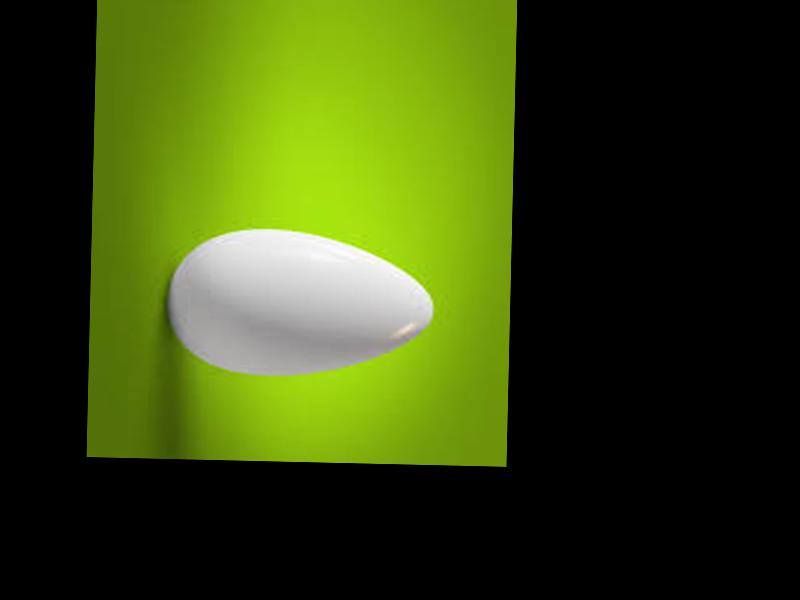Eggs: (168, 227, 438, 379)
